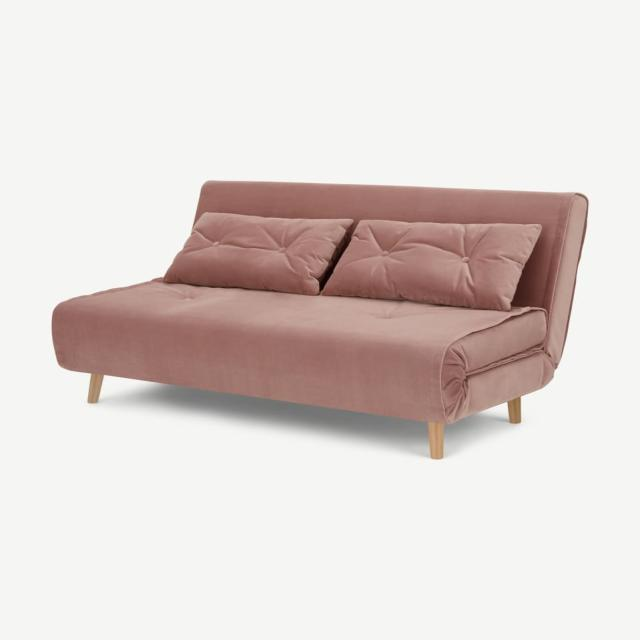Soffa: (54, 148, 590, 460)
